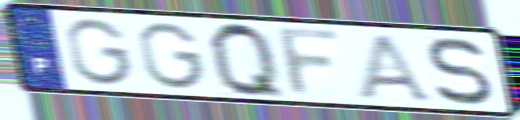A: (354, 33, 438, 105)
F: (274, 25, 347, 100)
G: (62, 16, 137, 88), (135, 20, 210, 92)
Q: (205, 18, 291, 103)
S: (425, 35, 496, 108)
